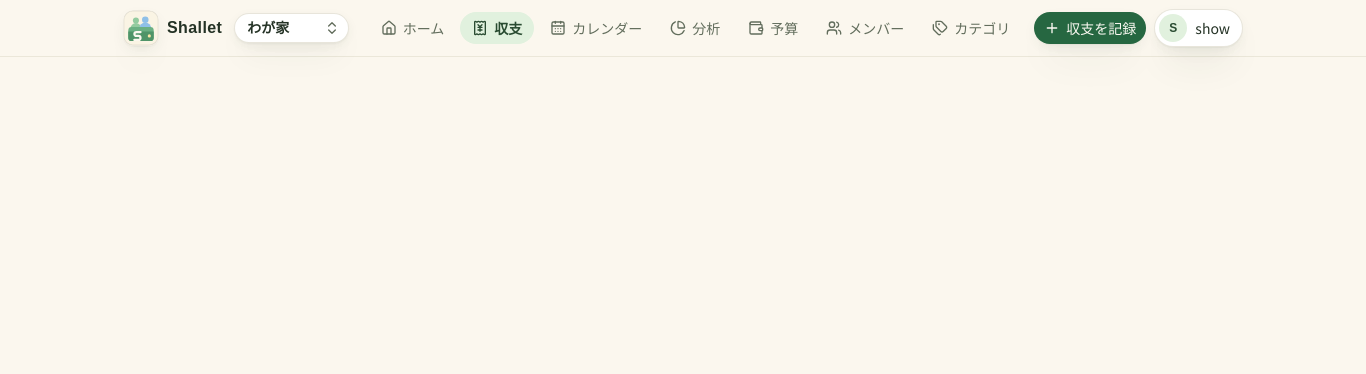
Test: AppHeader › ユーザーメニューにテーマ切り替えを表示する
Click the button "S show": (1199, 28) top-left (1154, 9), bottom-right (1243, 47)
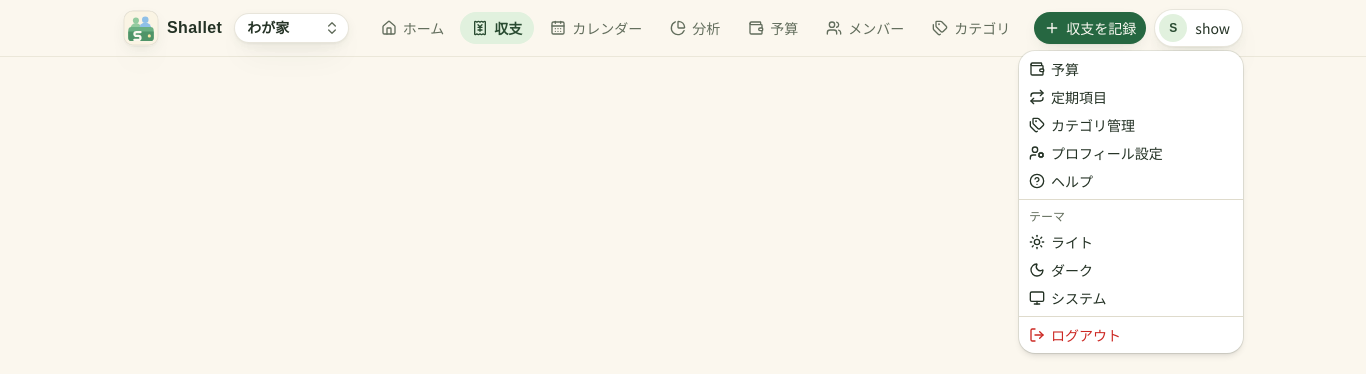
Expected: the menu item "ライト" is shown, top-left (1029, 232), bottom-right (1093, 252)
Expected: the menu item "ダーク" is shown, top-left (1029, 260), bottom-right (1093, 280)
Expected: the menu item "システム" is shown, top-left (1029, 288), bottom-right (1107, 308)
